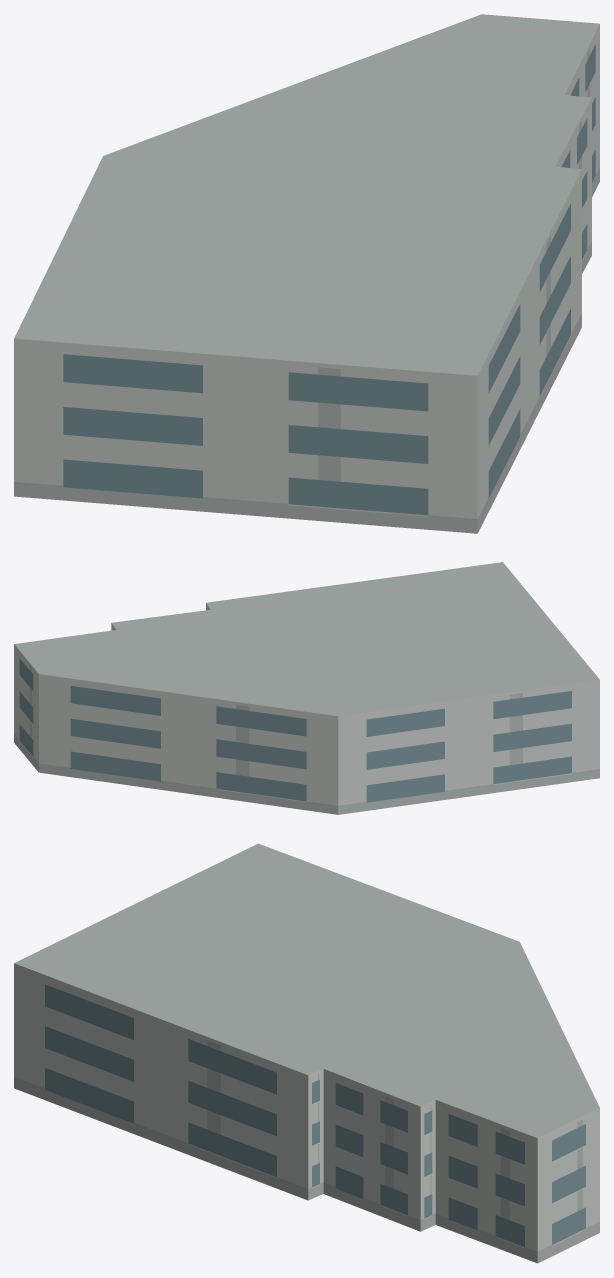
Rendered from survey-upis-32679431.glb.
The picture shows the model from 3 angles, top to bottom: view 1: azimuth 30°, elevation 25°; view 2: azimuth 150°, elevation 25°; view 3: azimuth 270°, elevation 25°; orthographic projection. The views are drawn at different scales.
Visible parts, largest first — view 1: survey-upis-32679431.tmp; view 2: survey-upis-32679431.tmp; view 3: survey-upis-32679431.tmp.
Boxes of the visible parts, x1,y1,x2,y2 form: survey-upis-32679431.tmp: (14,14,599,533); survey-upis-32679431.tmp: (14,562,599,814); survey-upis-32679431.tmp: (14,843,599,1263).
Bounding box in the file's own units: 46.22 × 9.15 × 38.82.
